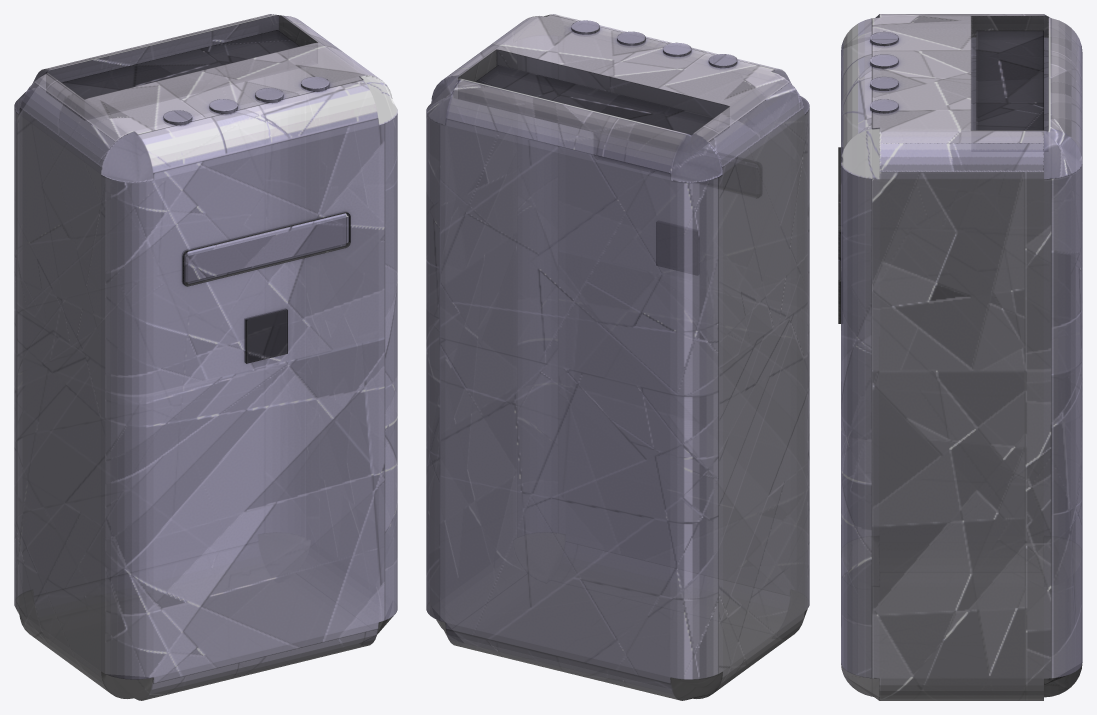
File: MD_kuukseizixyoukii.fbx
3 renders of one model, left to right at view 1: azimuth 30°, elevation 25°; view 2: azimuth 150°, elevation 25°; view 3: azimuth 270°, elevation 25°, orthographic.
Visible parts, largest first — view 1: AP_MainShape; view 2: AP_MainShape; view 3: AP_MainShape.
Boxes of the visible parts, left/top/right/bottom form: AP_MainShape: left=14, top=14, right=397, bottom=700; AP_MainShape: left=426, top=14, right=809, bottom=700; AP_MainShape: left=838, top=14, right=1082, bottom=700.
Bounding box in the file's own units: 105 × 196 × 75.75.
